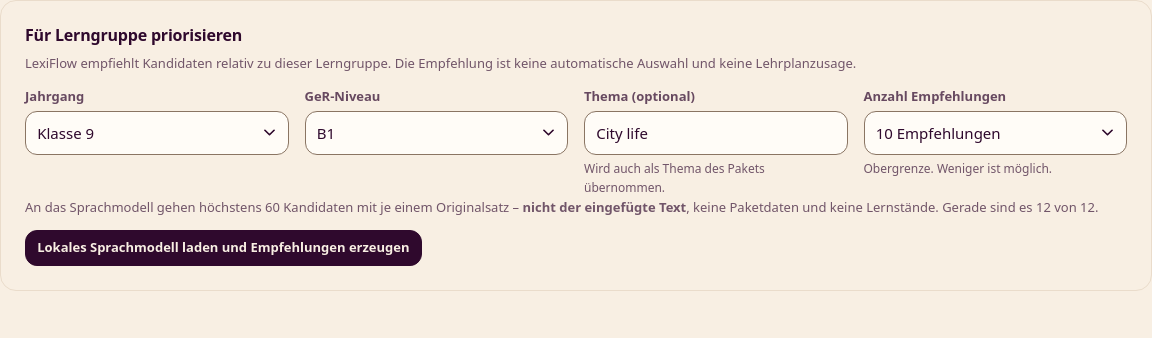
Test: Zustand nach dem Laden › behauptet nach dem Laden nicht mehr, laden zu müssen
Click the button "Lokales Sprachmodell laden und Empfehlungen erzeugen" at coordinates (223, 248), box [25,230,422,266]
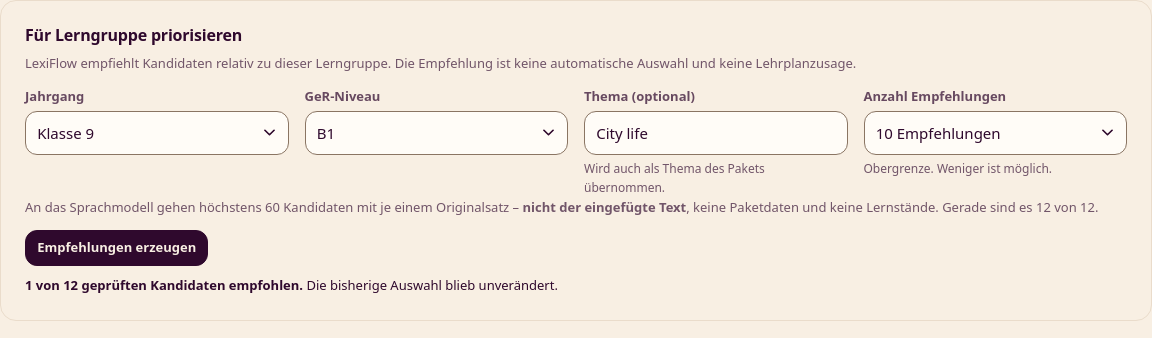
Result: the button "Empfehlungen erzeugen" is shown at [25,230,208,266]
Result: the button "Lokales Sprachmodell laden" is gone
